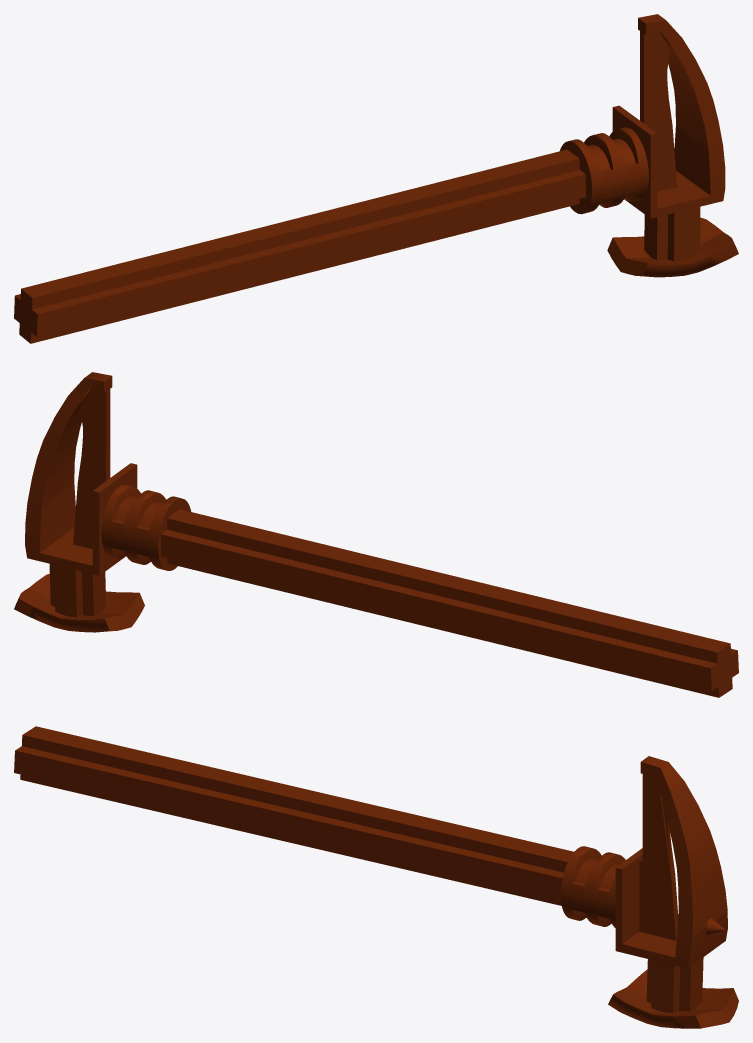
The model's file is stone hammer.fbx.
3 renders of one model, top to bottom at view 1: azimuth 30°, elevation 25°; view 2: azimuth 150°, elevation 25°; view 3: azimuth 330°, elevation 25°, orthographic.
Visible parts, largest first — view 1: Mesh_001; view 2: Mesh_001; view 3: Mesh_001.
Part boxes in pixels (left/top/right/bottom): Mesh_001: left=14, top=14, right=738, bottom=343; Mesh_001: left=14, top=372, right=738, bottom=697; Mesh_001: left=14, top=726, right=738, bottom=1028.
Bounding box in the file's own units: 9.9 × 3.4 × 0.956.
